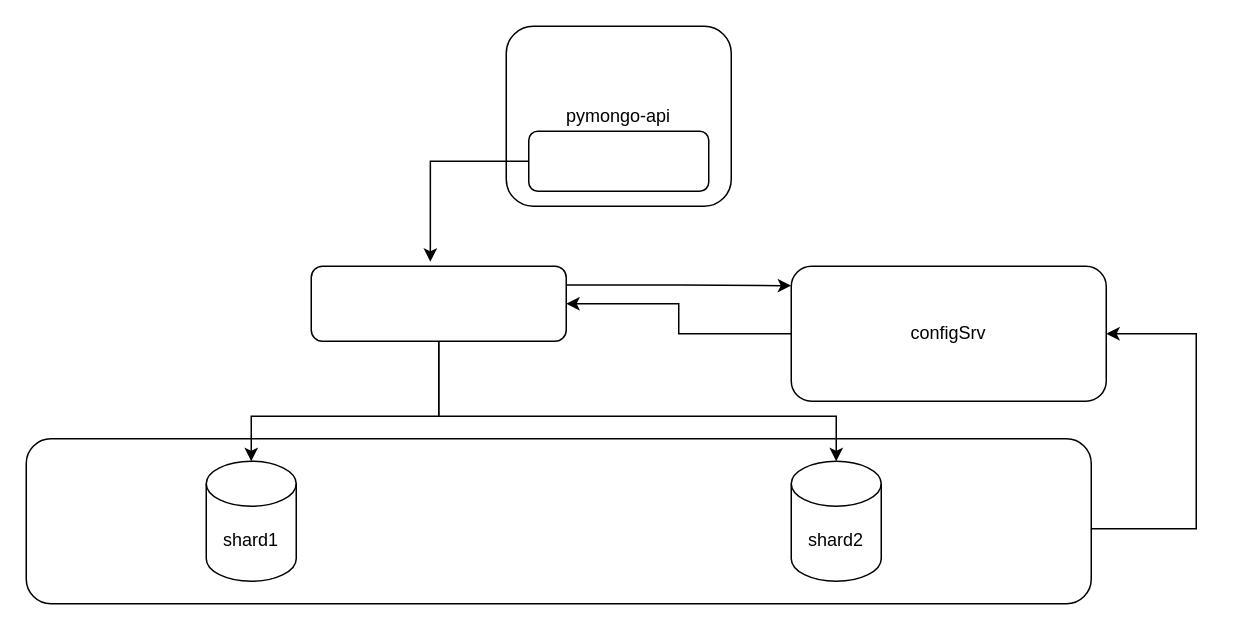
Image size: 1235x630. Some labels were removed from this diagram. Here are the shapes that lost their labels. From the top down, the centre of each, then its label:
At [618,160]: "driver".
At [438,303]: "mongos_router".
